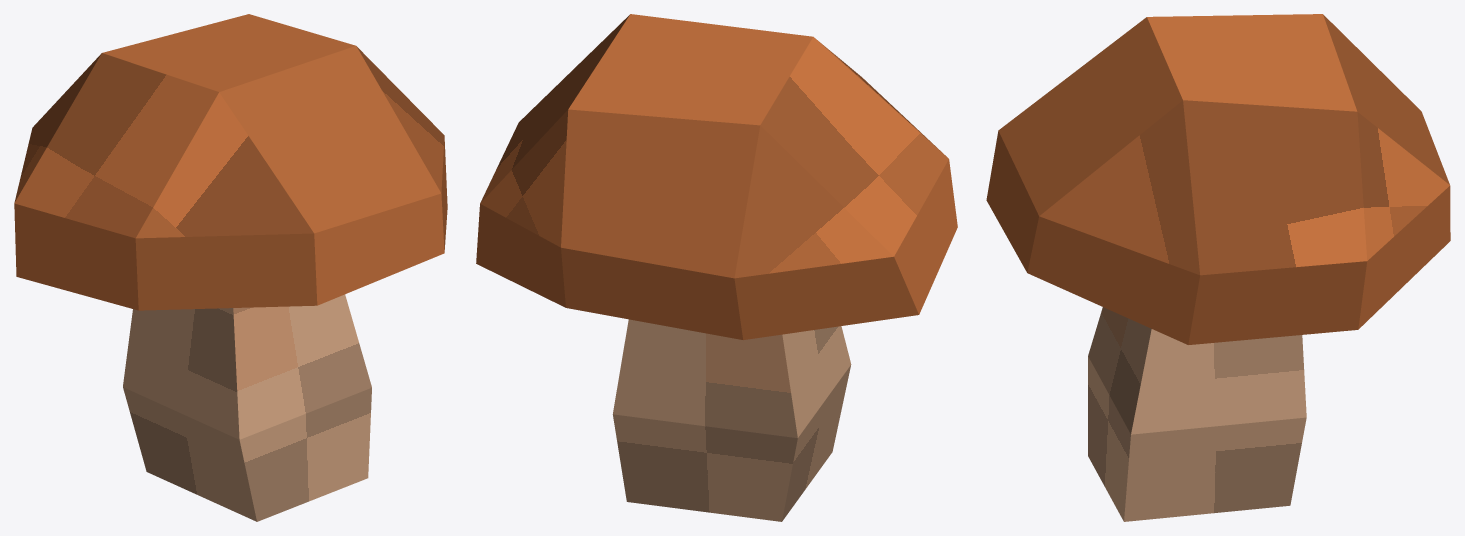
The model's file is Ext-Champiñón2.fbx.
The picture shows the model from 3 angles, left to right: view 1: azimuth 30°, elevation 25°; view 2: azimuth 150°, elevation 25°; view 3: azimuth 270°, elevation 25°; orthographic projection. The views are drawn at different scales.
Visible parts, largest first — view 1: cuboid; view 2: cuboid; view 3: cuboid.
Part boxes in pixels (x1=…): cuboid: x1=14, y1=14, x2=447, y2=521; cuboid: x1=476, y1=14, x2=957, y2=521; cuboid: x1=986, y1=14, x2=1450, y2=521.
Size of the model in its own units: 14.31 by 14.02 by 13.59.
1 material, 1 textured.
